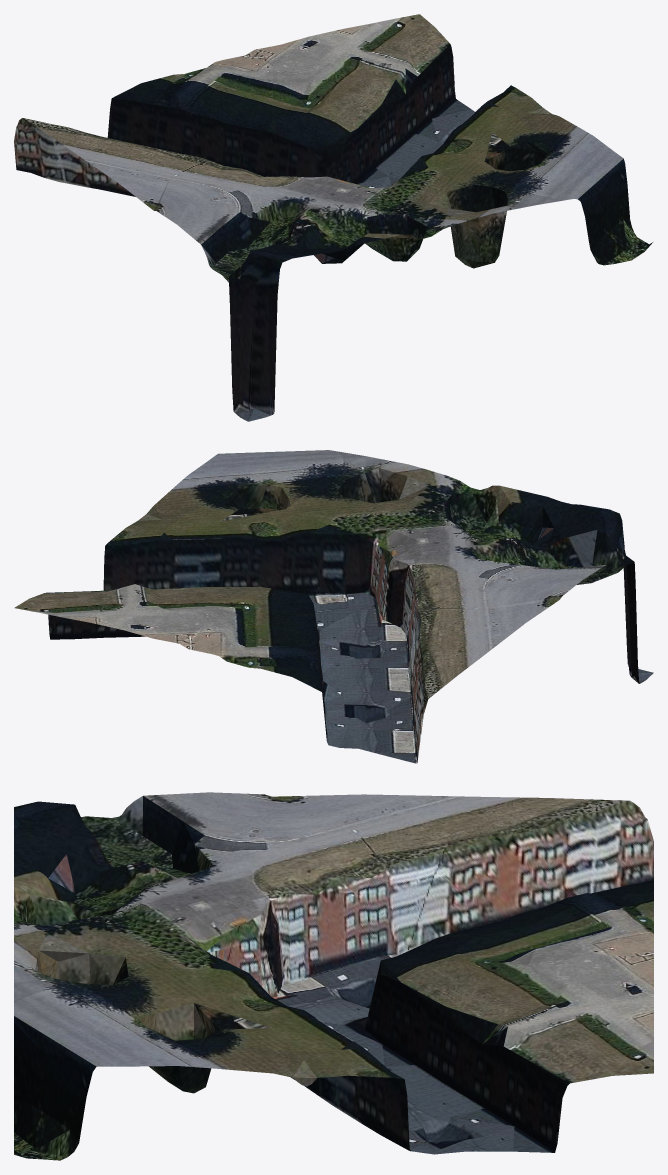
File: map_15_8177_13787.dae
3 views of the same model, one above another, from view 1: azimuth 30°, elevation 25°; view 2: azimuth 150°, elevation 25°; view 3: azimuth 270°, elevation 25° (orthographic). The views are drawn at different scales.
Visible parts, largest first — view 1: Ter0; view 2: Ter0; view 3: Ter0.
Boxes of the visible parts, x1,y1,x2,y2 form: Ter0: (14,14,652,421); Ter0: (14,450,653,763); Ter0: (14,792,653,1160).
Bounding box in the file's own units: 63.87 × 63.88 × 23.2.
Materials: 4 (4 with a texture image).
